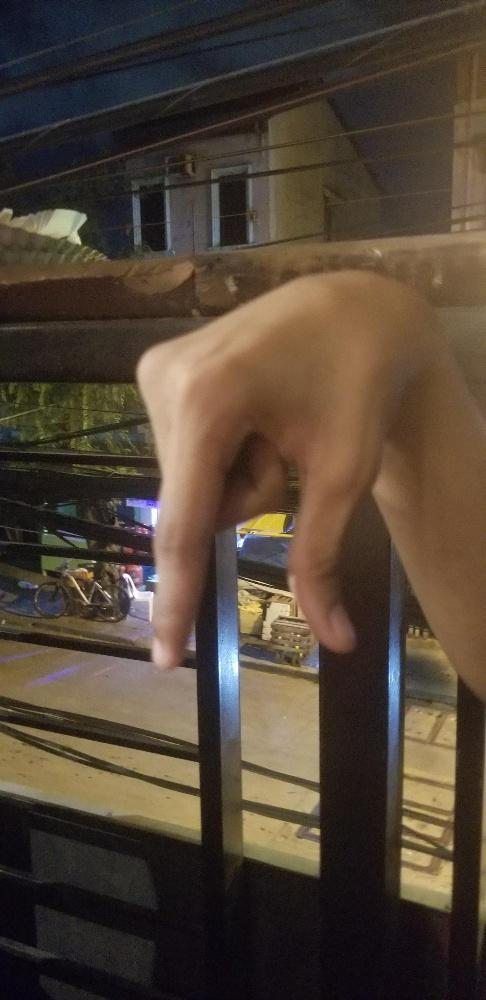q: (133, 266, 424, 672)
